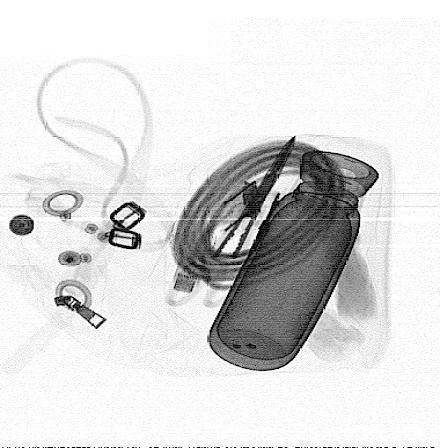Scissors: (164, 133, 297, 311)
